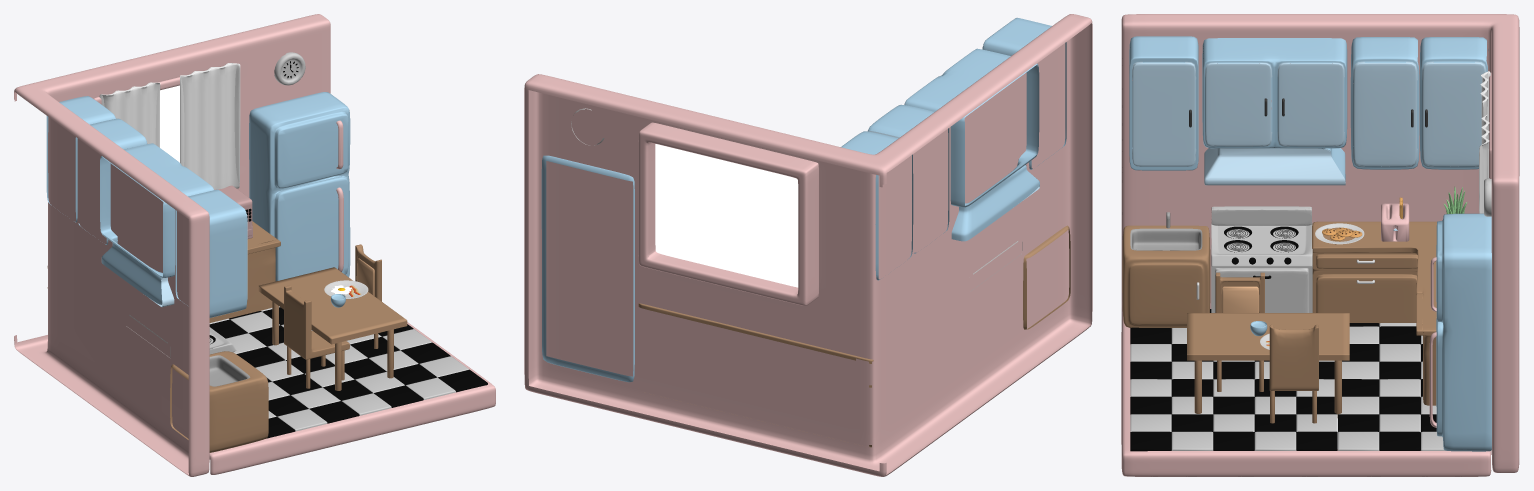
Rendered from kitchen.glb.
3 views of the same model, side by side, from view 1: azimuth 30°, elevation 25°; view 2: azimuth 150°, elevation 25°; view 3: azimuth 270°, elevation 25° (orthographic). The views are drawn at different scales.
Parts seen in each view (by area): view 1: walls bakeOne, fridge bakeTwo, floor bakeTwo, floor bakeOne, curtainTwo, table bakeTwo, cabinetTwo bakeOne, sink bakeOne, cabinetOne bakeOne, mainCounter bakeTwo, curtainOne, Cube.041 (+7 smaller); view 2: walls bakeOne, window, walls.001, cabinetTwo bakeOne, fridge bakeTwo, cabinetOne bakeOne, cabinetThree bakeOne, cabinetFour bakeOne, mainCounter bakeTwo, sink bakeOne; view 3: walls bakeOne, floor bakeTwo, cabinetTwo bakeOne, fridge bakeTwo, mainCounter bakeTwo, floor bakeOne, cabinetOne bakeOne, cabinetThree bakeOne, sink bakeOne, oven bakeOne, cabinetFour bakeOne, table bakeTwo (+9 smaller).
Boxes of the visible parts, bbox=[...] form: walls bakeOne: bbox=[14, 14, 330, 476]; fridge bakeTwo: bbox=[249, 92, 350, 281]; floor bakeTwo: bbox=[209, 306, 487, 438]; floor bakeOne: bbox=[209, 322, 495, 474]; curtainTwo: bbox=[180, 63, 240, 189]; table bakeTwo: bbox=[258, 267, 407, 390]; cabinetTwo bakeOne: bbox=[100, 143, 213, 304]; sink bakeOne: bbox=[170, 351, 268, 452]; cabinetOne bakeOne: bbox=[175, 189, 247, 317]; mainCounter bakeTwo: bbox=[47, 221, 280, 322]; curtainOne: bbox=[99, 82, 160, 147]; Cube.041: bbox=[284, 285, 349, 359]; walls bakeOne: bbox=[524, 14, 1092, 476]; window: bbox=[655, 144, 798, 287]; walls.001: bbox=[638, 122, 818, 305]; cabinetTwo bakeOne: bbox=[904, 48, 1039, 241]; fridge bakeTwo: bbox=[541, 155, 634, 382]; cabinetOne bakeOne: bbox=[982, 17, 1066, 169]; cabinetThree bakeOne: bbox=[867, 104, 949, 253]; cabinetFour bakeOne: bbox=[841, 131, 913, 280]; mainCounter bakeTwo: bbox=[638, 303, 873, 447]; sink bakeOne: bbox=[1023, 225, 1070, 329]; walls bakeOne: bbox=[1121, 14, 1519, 472]; floor bakeTwo: bbox=[1130, 323, 1446, 451]; cabinetTwo bakeOne: bbox=[1202, 38, 1347, 181]; fridge bakeTwo: bbox=[1429, 213, 1491, 451]; mainCounter bakeTwo: bbox=[1312, 221, 1436, 405]; floor bakeOne: bbox=[1121, 303, 1491, 476]; cabinetOne bakeOne: bbox=[1129, 36, 1198, 170]; cabinetThree bakeOne: bbox=[1350, 37, 1419, 169]; sink bakeOne: bbox=[1122, 225, 1210, 328]; oven bakeOne: bbox=[1211, 206, 1312, 312]; cabinetFour bakeOne: bbox=[1419, 37, 1488, 169]; table bakeTwo: bbox=[1187, 313, 1349, 417].
Size of what is drawn, in the model's own units: 4.38 by 3.62 by 4.38.
